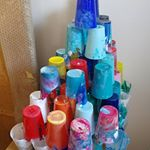cups: (91, 103, 121, 145), (20, 103, 47, 144), (63, 67, 90, 106), (90, 62, 115, 101), (45, 110, 69, 150), (83, 23, 108, 60)
